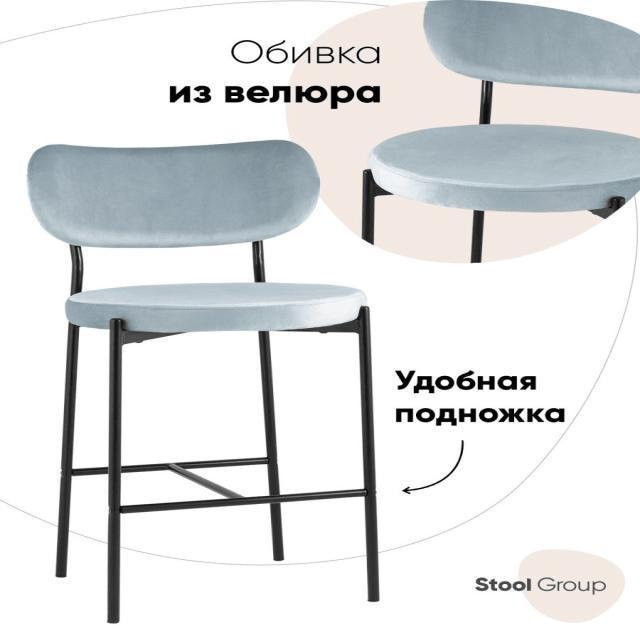chair: (27, 131, 385, 628), (27, 139, 359, 337), (375, 0, 640, 201)
